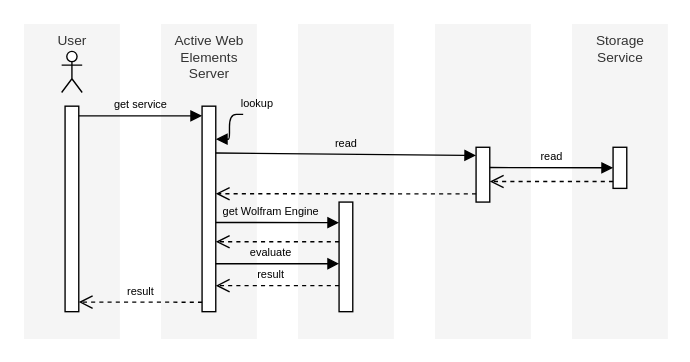
Some shapes in this 690 by 362 pixel diagram are drawn without their labels. Each missing label, with the centre of its shape:
"Resource Manager" belongs at (482,180).
"webKernel" belongs at (345,180).
